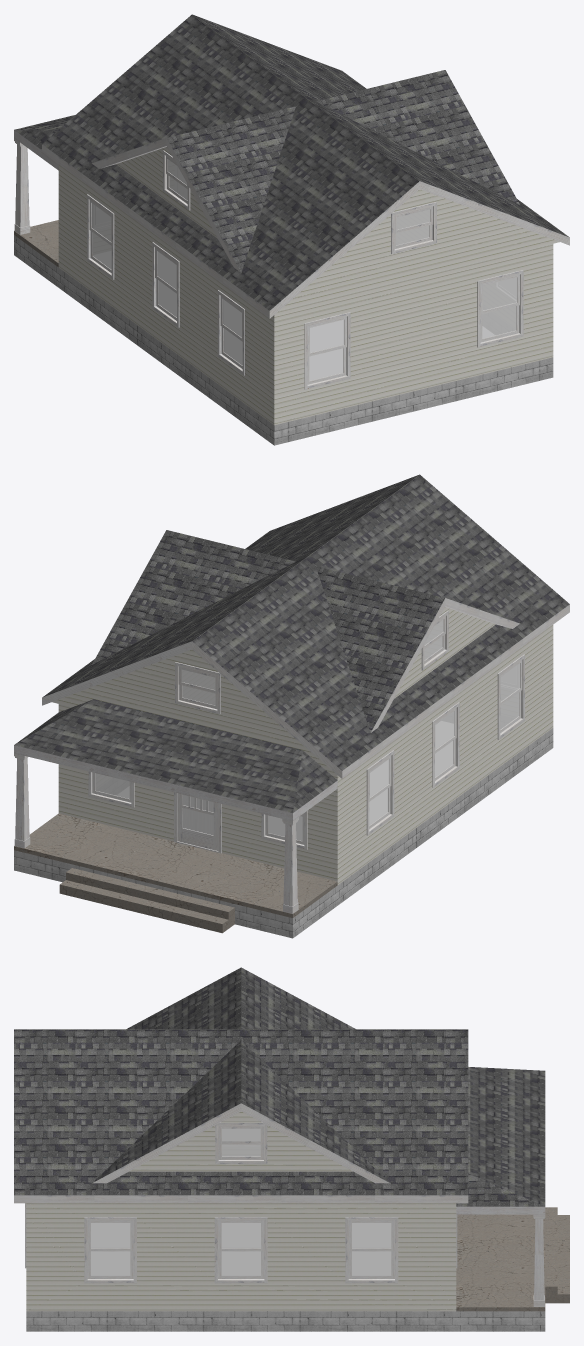
File: small_house.glb
3 views of the same model, one above another, from view 1: azimuth 30°, elevation 25°; view 2: azimuth 150°, elevation 25°; view 3: azimuth 270°, elevation 25° (orthographic).
Visible parts, largest first — view 1: Material2 (×6); view 2: Material2 (×6); view 3: Material2 (×6).
Part boxes in pixels (bbox=[...]): Material2 (×6): bbox=[14, 14, 569, 445]; Material2 (×6): bbox=[14, 474, 569, 938]; Material2 (×6): bbox=[14, 967, 569, 1331].
Size of the model in its own units: 310 by 232 by 498.
9 materials, 5 textured.
